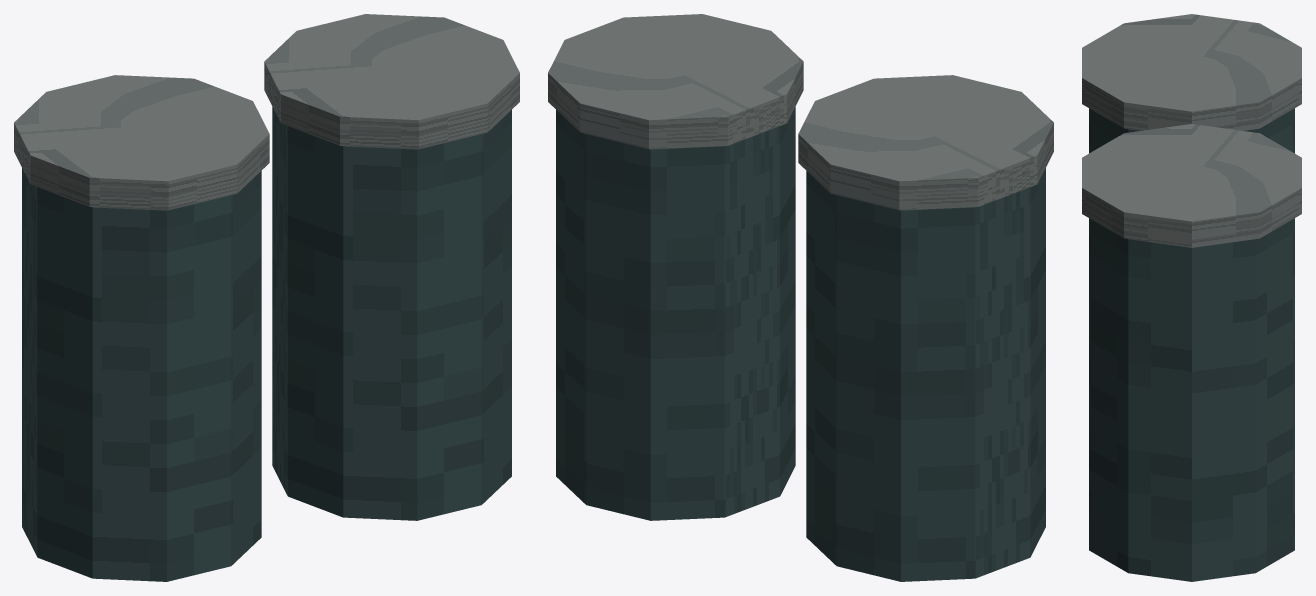
File: vasos.glb
The picture shows the model from 3 angles, left to right: view 1: azimuth 30°, elevation 25°; view 2: azimuth 150°, elevation 25°; view 3: azimuth 270°, elevation 25°; orthographic projection. The views are drawn at different scales.
Parts seen in each view (by area): view 1: vasos; view 2: vasos; view 3: vasos.
Part boxes in pixels (box(x1,y1,x2,y2)): vasos: box(14, 14, 519, 581); vasos: box(548, 14, 1053, 581); vasos: box(1082, 14, 1301, 581).
Size of the model in its own units: 0.2073 by 0.1739 by 0.0928.
Materials: 1 (1 with a texture image).
